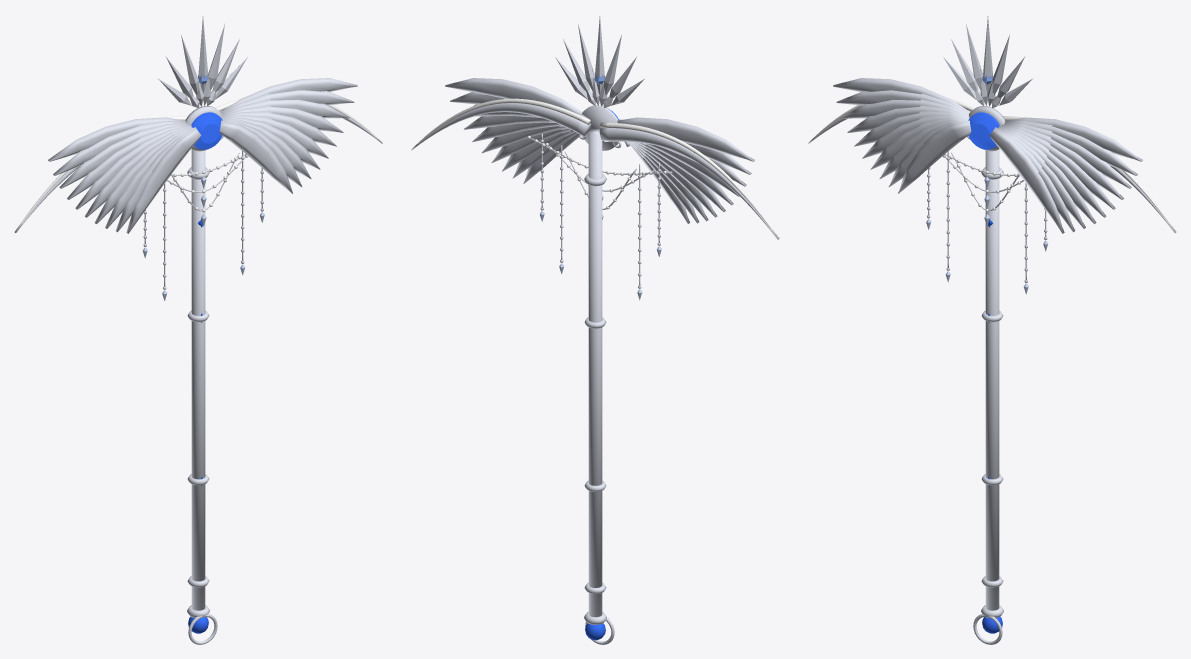
File: SilverWingPickaxe.glb
3 renders of one model, left to right at view 1: azimuth 30°, elevation 25°; view 2: azimuth 150°, elevation 25°; view 3: azimuth 330°, elevation 25°, orthographic.
Visible parts, largest first — view 1: SilverWingPickaxe_Metal, SilverWingPickaxe_SmoothPlastic, SilverWingPickaxe_Neon, SilverWingPickaxe_Glass; view 2: SilverWingPickaxe_Metal, SilverWingPickaxe_SmoothPlastic, SilverWingPickaxe_Glass; view 3: SilverWingPickaxe_Metal, SilverWingPickaxe_SmoothPlastic, SilverWingPickaxe_Neon, SilverWingPickaxe_Glass.
Part boxes in pixels (x1,y1,x2,y2): SilverWingPickaxe_Metal: [14, 16, 382, 644]; SilverWingPickaxe_SmoothPlastic: [14, 97, 382, 232]; SilverWingPickaxe_Neon: [191, 112, 222, 149]; SilverWingPickaxe_Glass: [142, 74, 264, 633]; SilverWingPickaxe_Metal: [411, 16, 779, 644]; SilverWingPickaxe_SmoothPlastic: [411, 98, 778, 238]; SilverWingPickaxe_Glass: [539, 74, 661, 640]; SilverWingPickaxe_Metal: [808, 16, 1176, 644]; SilverWingPickaxe_SmoothPlastic: [808, 97, 1176, 232]; SilverWingPickaxe_Neon: [968, 112, 999, 149]; SilverWingPickaxe_Glass: [926, 73, 1048, 633].
Size of the model in its own units: 2.83 by 4.63 by 0.239.
Materials: 4 (4 with a texture image).
